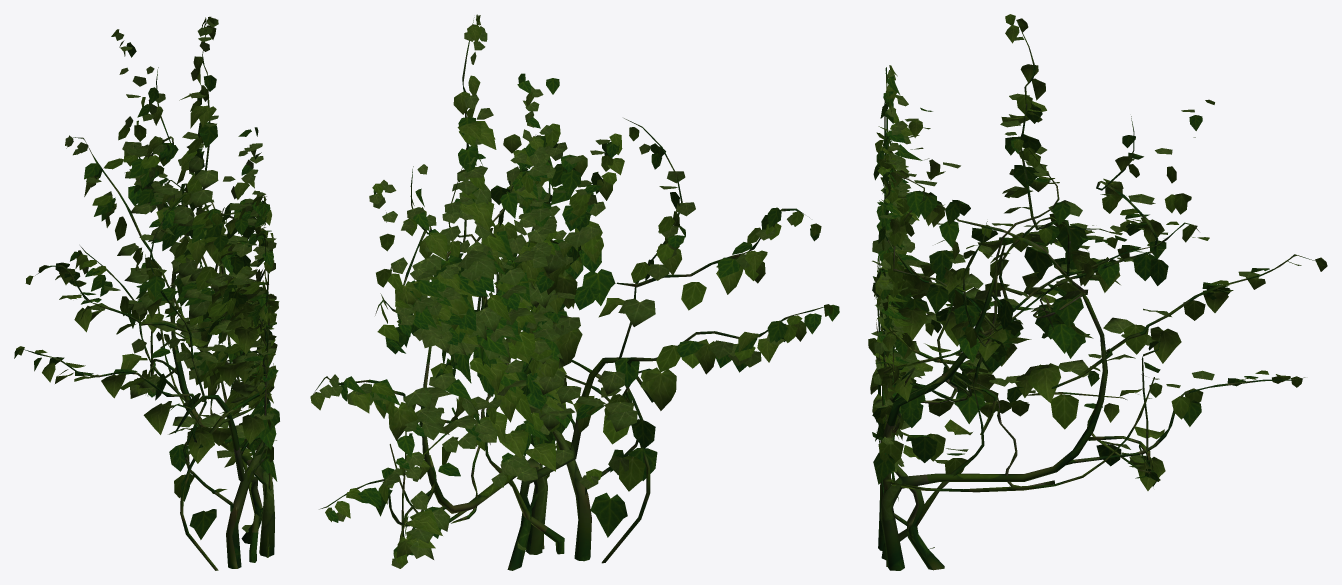
The model's file is SM_IvyCorner.fbx.
3 renders of one model, left to right at view 1: azimuth 30°, elevation 25°; view 2: azimuth 150°, elevation 25°; view 3: azimuth 270°, elevation 25°, orthographic. The views are drawn at different scales.
Visible parts, largest first — view 1: SM_IvyCorner_LOD0; view 2: SM_IvyCorner_LOD0; view 3: SM_IvyCorner_LOD0.
Part boxes in pixels (bbox=[...]): SM_IvyCorner_LOD0: bbox=[14, 16, 279, 570]; SM_IvyCorner_LOD0: bbox=[310, 14, 839, 570]; SM_IvyCorner_LOD0: bbox=[868, 14, 1327, 570].
Size of the model in its own units: 99.13 by 133 by 177.
